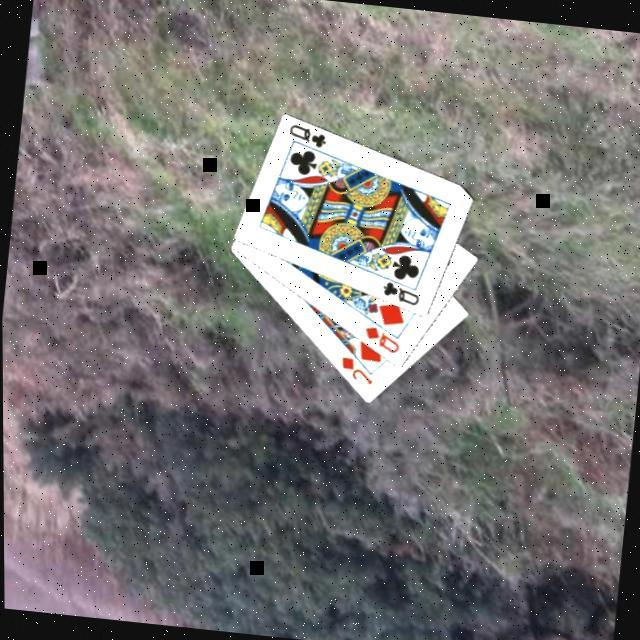JD: (334, 354, 374, 389)
QC: (375, 280, 421, 310), (282, 122, 328, 152)
QD: (356, 323, 401, 358)
